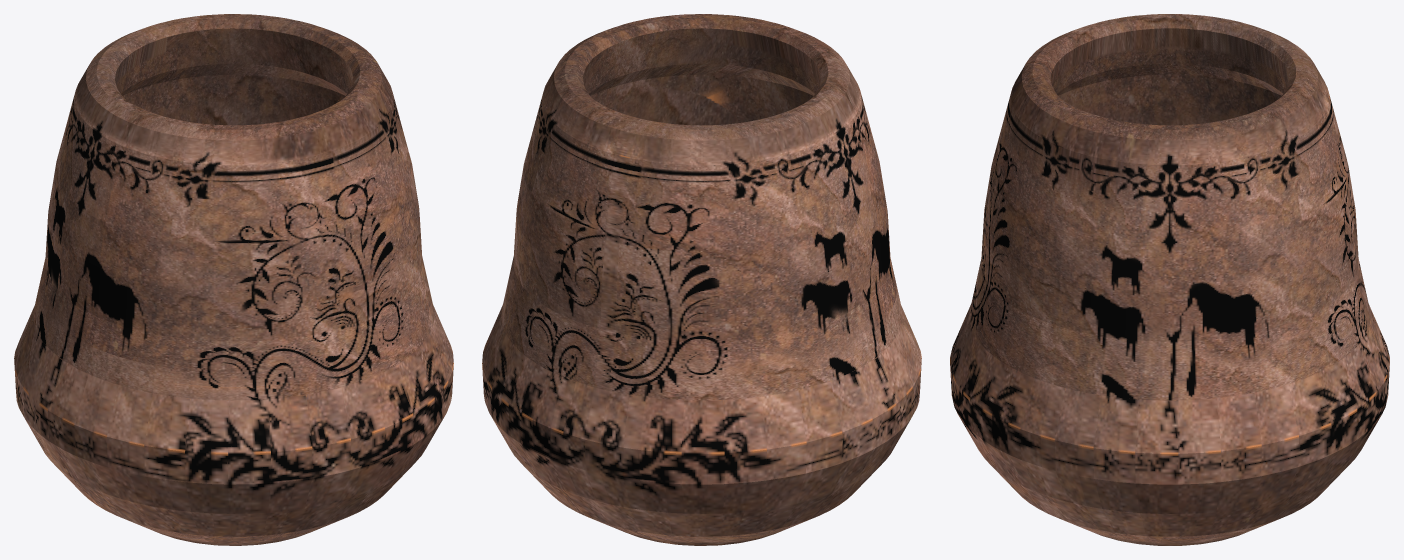
File: JARRON 1.5.fbx
3 views of the same model, side by side, from view 1: azimuth 30°, elevation 25°; view 2: azimuth 150°, elevation 25°; view 3: azimuth 270°, elevation 25° (orthographic).
Parts seen in each view (by area): view 1: Cylinder; view 2: Cylinder; view 3: Cylinder.
Part boxes in pixels (x1=…): Cylinder: x1=14, y1=14, x2=453, y2=545; Cylinder: x1=482, y1=14, x2=921, y2=545; Cylinder: x1=950, y1=14, x2=1389, y2=545.
Size of the model in its own units: 250 by 269 by 250.
